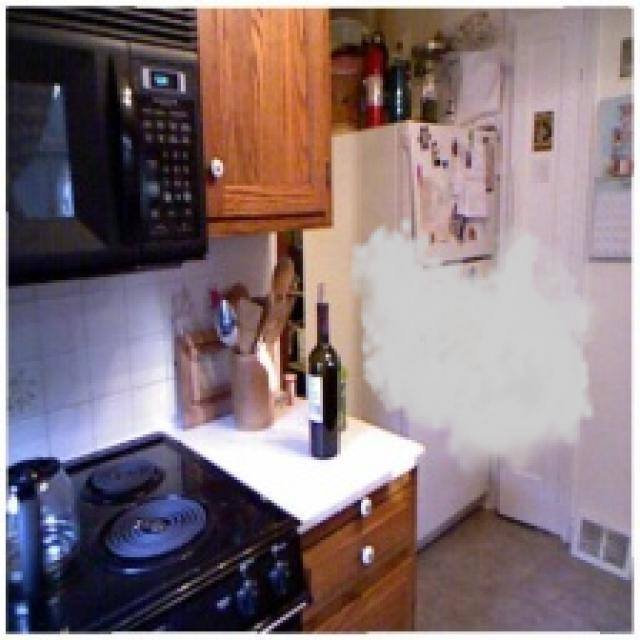Smoke: (346, 214, 612, 486)
